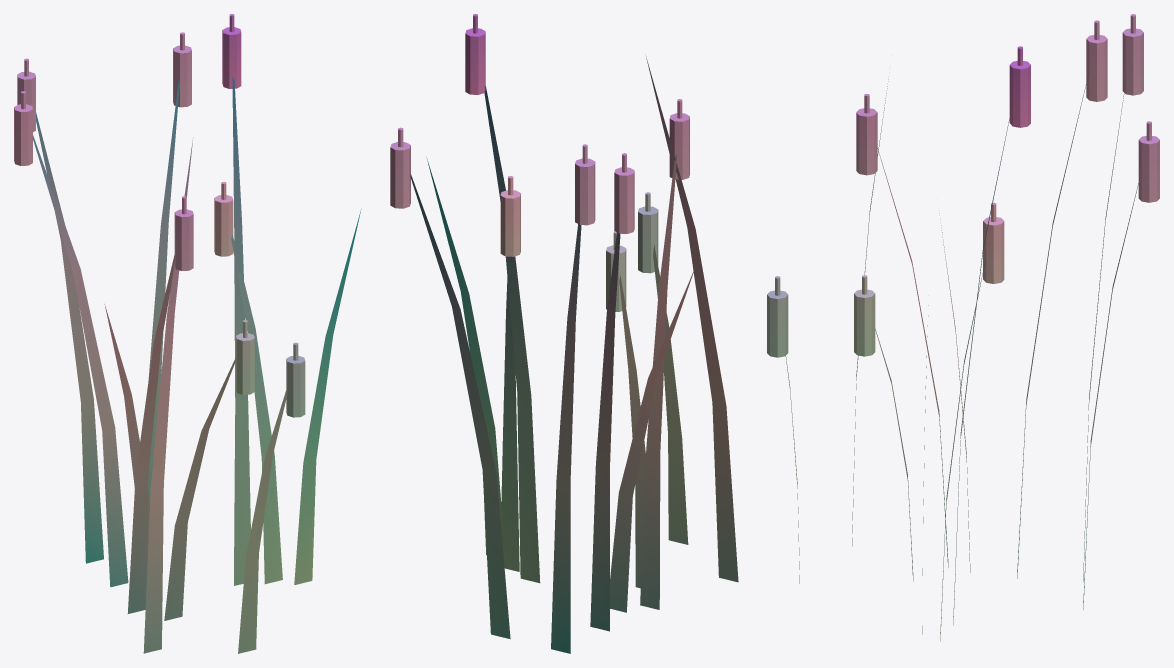
The model's file is reed_clump.glb.
3 views of the same model, side by side, from view 1: azimuth 30°, elevation 25°; view 2: azimuth 150°, elevation 25°; view 3: azimuth 270°, elevation 25° (orthographic). The views are drawn at different scales.
Parts seen in each view (by area): view 1: reeds, reed_heads; view 2: reeds, reed_heads; view 3: reed_heads, reeds.
Boxes of the visible parts, left/top/right/bottom form: reeds: left=32, top=76, right=361, bottom=653; reed_heads: left=14, top=14, right=305, bottom=417; reeds: left=410, top=56, right=738, bottom=653; reed_heads: left=390, top=14, right=689, bottom=311; reed_heads: left=767, top=14, right=1159, bottom=357; reeds: left=785, top=73, right=1138, bottom=641.
Size of the model in its own units: 0.8881 by 1.7 by 1.03.
